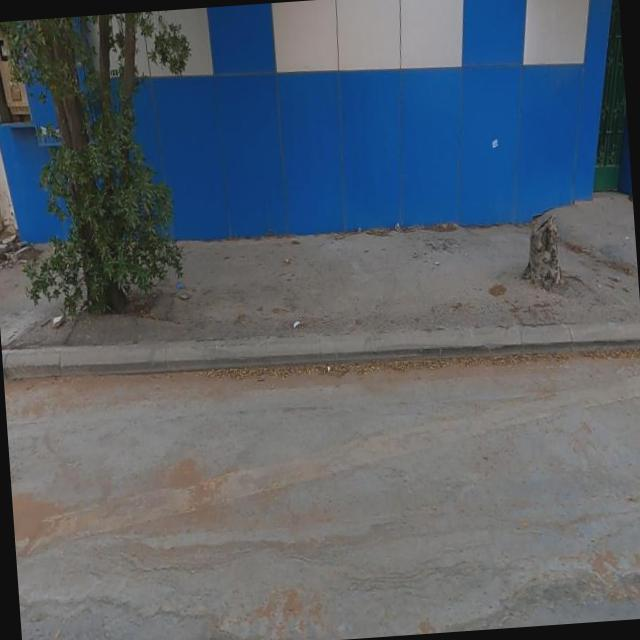debris: (162, 249, 198, 313), (44, 284, 78, 342), (280, 299, 316, 339)
